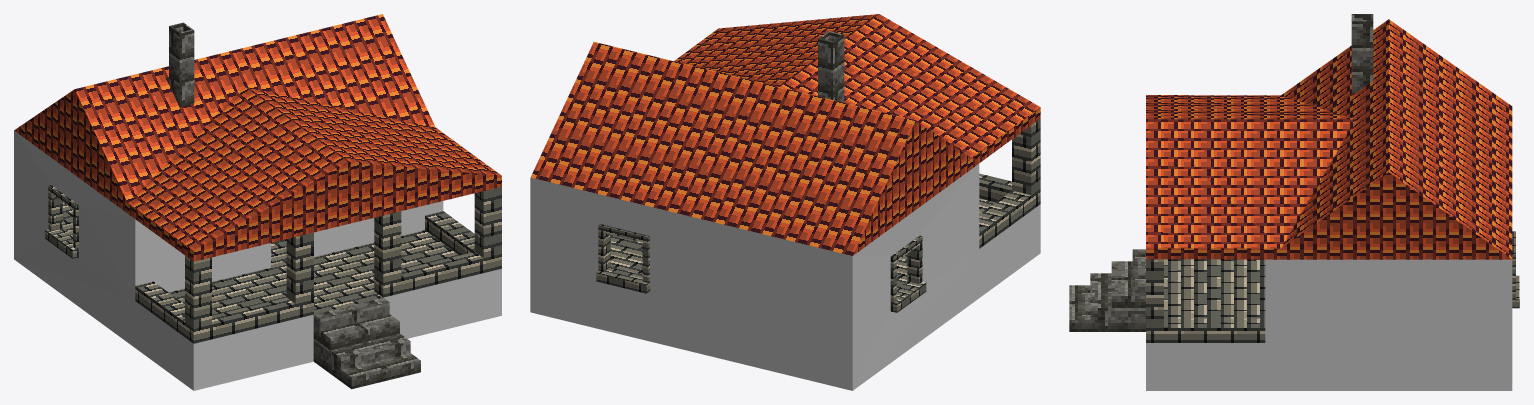
File: mariannshouse.obj
3 renders of one model, left to right at view 1: azimuth 30°, elevation 25°; view 2: azimuth 150°, elevation 25°; view 3: azimuth 270°, elevation 25°, orthographic. The views are drawn at different scales.
Parts seen in each view (by area): view 1: Plane.002, Plane.008, Plane.004, Plane.001, Plane.003, Plane.005_Plane.006; view 2: Plane.002, Plane.008, Plane.004, Plane.005_Plane.006, Plane.001, Plane.003; view 3: Plane.002, Plane.008, Plane.001, Plane.003, Plane.004, Plane.005_Plane.006.
Boxes of the visible parts, bbox=[...] form: Plane.002: bbox=[14, 14, 501, 261]; Plane.008: bbox=[14, 130, 501, 390]; Plane.004: bbox=[135, 186, 501, 343]; Plane.001: bbox=[169, 22, 420, 389]; Plane.003: bbox=[63, 204, 459, 315]; Plane.005_Plane.006: bbox=[45, 185, 78, 258]; Plane.002: bbox=[530, 14, 1040, 255]; Plane.008: bbox=[530, 164, 1040, 390]; Plane.004: bbox=[979, 118, 1040, 248]; Plane.005_Plane.006: bbox=[596, 224, 926, 312]; Plane.001: bbox=[818, 31, 844, 102]; Plane.003: bbox=[610, 198, 995, 288]; Plane.002: bbox=[1146, 19, 1512, 259]; Plane.008: bbox=[1146, 259, 1512, 390]; Plane.001: bbox=[1069, 14, 1373, 331]; Plane.003: bbox=[1164, 259, 1265, 318]; Plane.004: bbox=[1146, 259, 1265, 342]; Plane.005_Plane.006: bbox=[1512, 231, 1519, 308].
Size of the model in its own units: 13.94 by 11.12 by 17.
